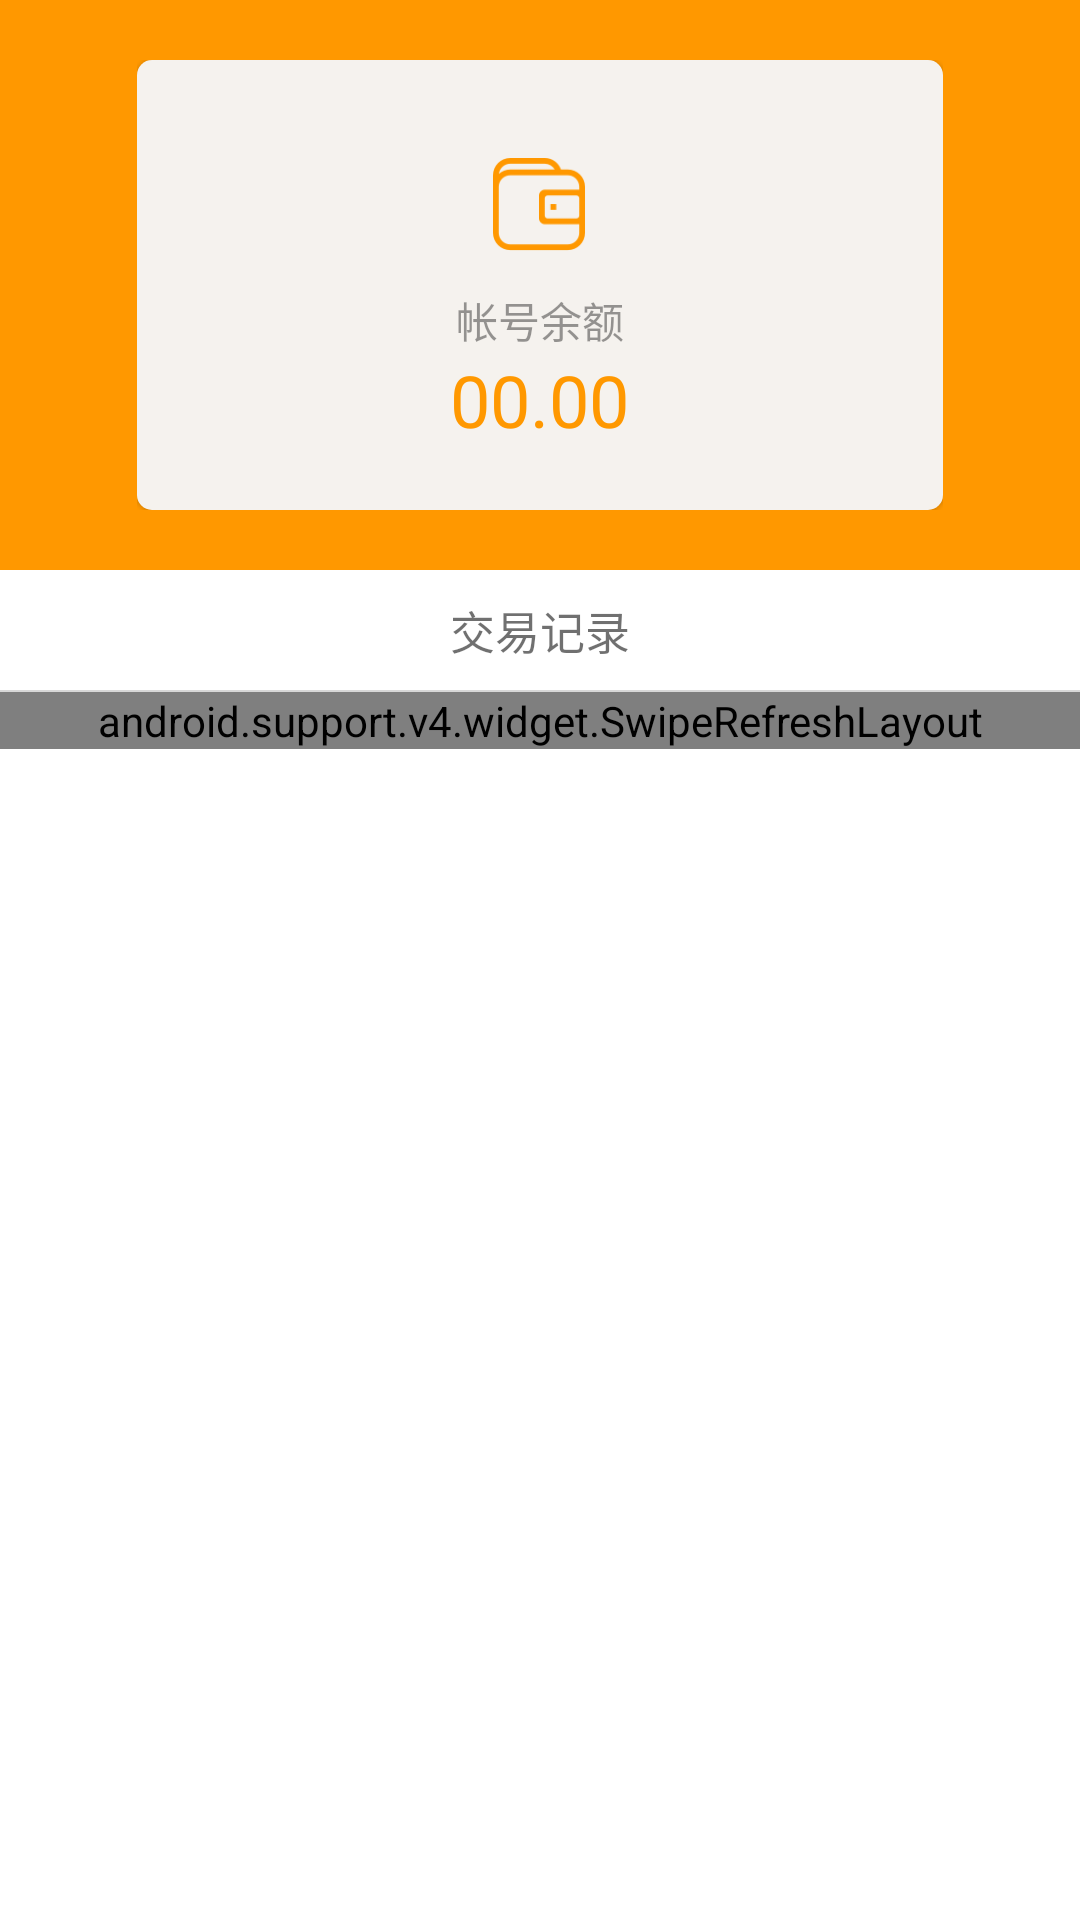

Locate icon controls on the screen. Image size 1080x1920, boxes as bbox=(x1, y1, x2, y2).
qianbao: bbox=(493, 158, 585, 251)
